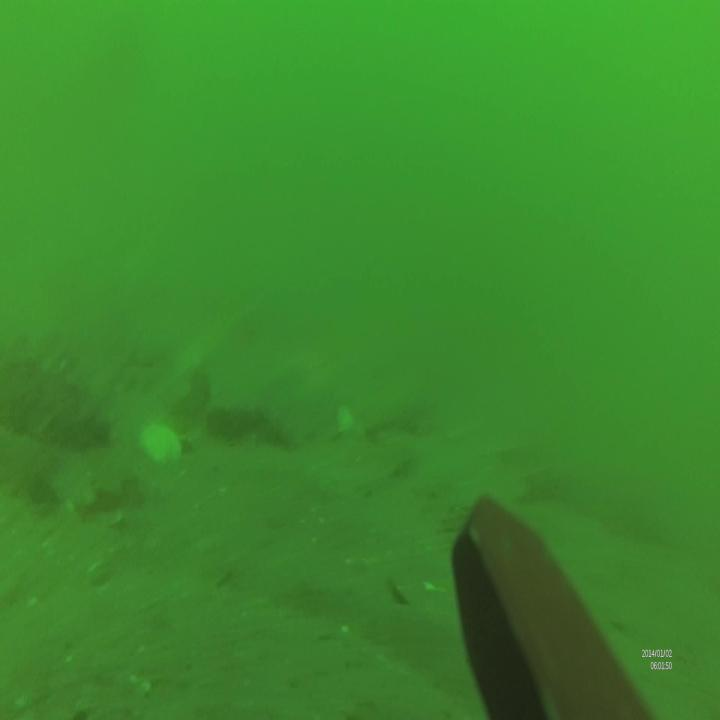holothurian: (1, 333, 111, 453)
scallop: (138, 420, 183, 468)
